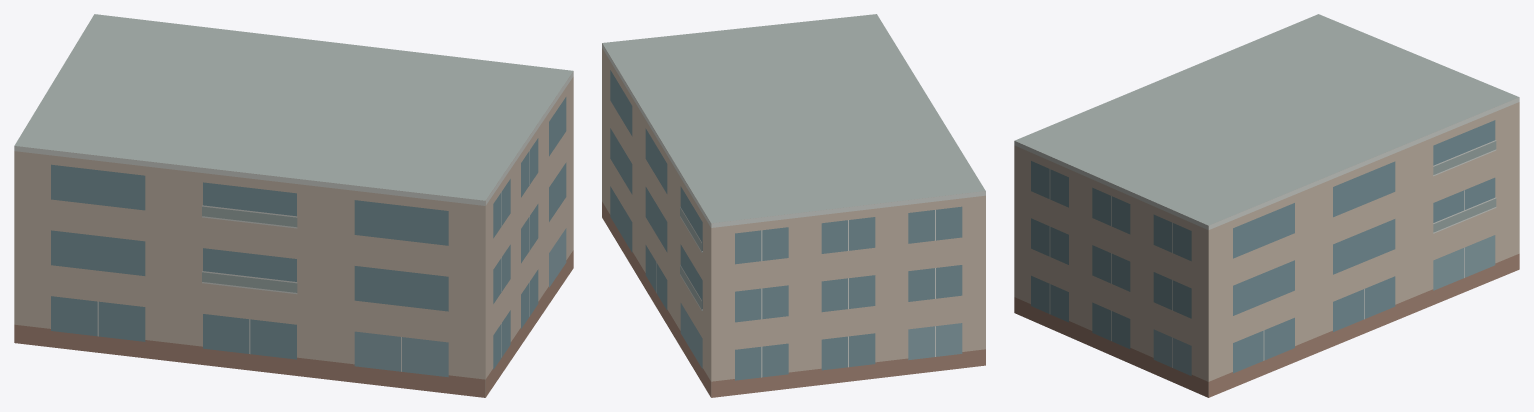
Rendered from survey-upis-32993870.glb.
3 renders of one model, left to right at view 1: azimuth 30°, elevation 25°; view 2: azimuth 150°, elevation 25°; view 3: azimuth 270°, elevation 25°, orthographic. The views are drawn at different scales.
Visible parts, largest first — view 1: survey-upis-32993870.tmp; view 2: survey-upis-32993870.tmp; view 3: survey-upis-32993870.tmp.
Boxes of the visible parts, x1=… form: survey-upis-32993870.tmp: x1=14, y1=14, x2=573, y2=397; survey-upis-32993870.tmp: x1=602, y1=14, x2=985, y2=397; survey-upis-32993870.tmp: x1=1014, y1=14, x2=1519, y2=397.
Bounding box in the file's own units: 24.12 × 9.15 × 24.33.
